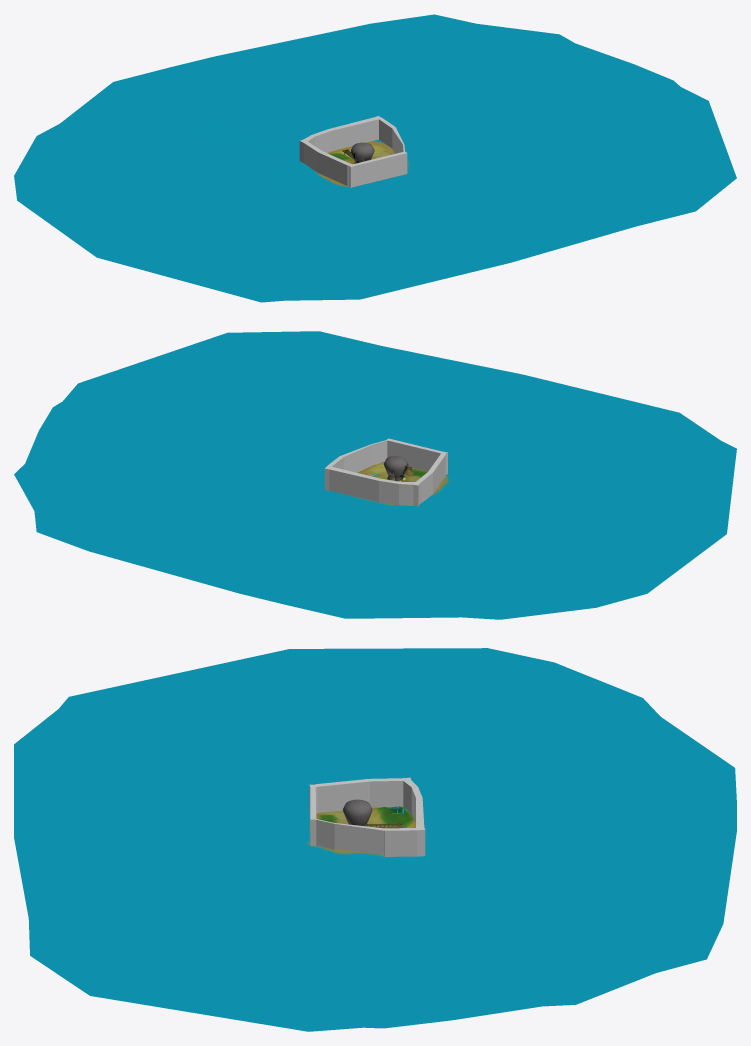
File: map_11.fbx
3 renders of one model, top to bottom at view 1: azimuth 30°, elevation 25°; view 2: azimuth 150°, elevation 25°; view 3: azimuth 270°, elevation 25°, orthographic. The views are drawn at different scales.
Parts seen in each view (by area): view 1: Plane; view 2: Plane; view 3: Plane.
Part boxes in pixels (left/top/right/bottom): Plane: left=14, top=14, right=736, bottom=302; Plane: left=14, top=331, right=736, bottom=619; Plane: left=14, top=648, right=736, bottom=1031.
Bounding box in the file's own units: 912 × 58.25 × 726.
